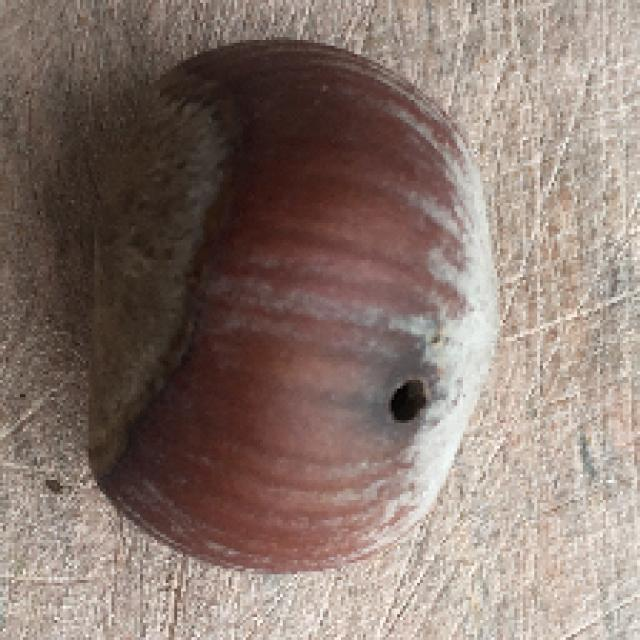damagedHazelnut: (66, 36, 495, 573)
